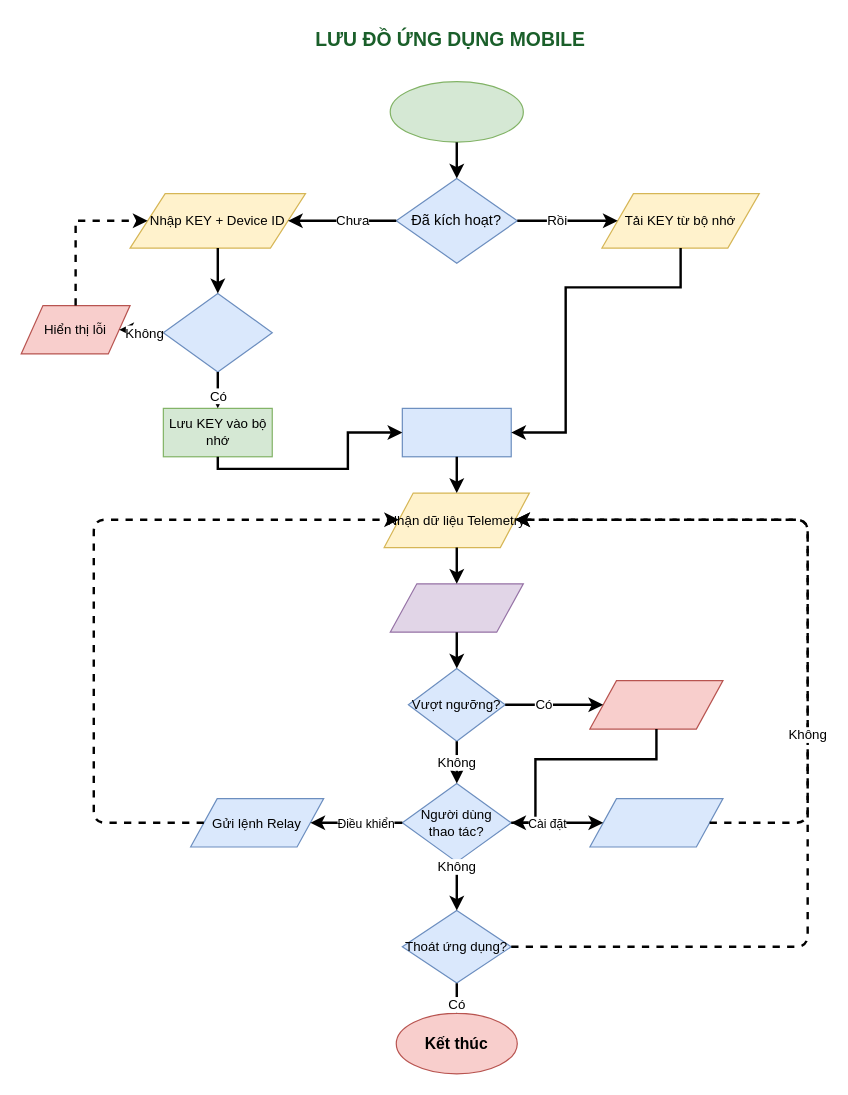
The diagram is 848 pixels wide and 1095 high, and some of its shapes have lost their labels. The shapes that lost their labels are listed below. From the top down, each one's box as (x1, y1, x2, y2) in pixels, then its label:
(389, 80, 523, 142): Khởi động App
(162, 292, 272, 372): Thiết bị phản hồi?
(401, 407, 511, 457): Kết nối MQTT
(389, 583, 523, 632): Cập nhật giao diện
(589, 679, 723, 729): Gửi thông báo
(589, 797, 723, 847): Gửi ngưỡng mới
